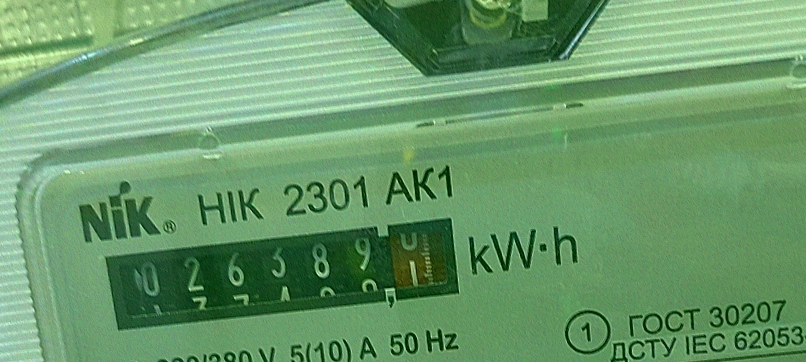0: (135, 257, 162, 299), (398, 229, 418, 252)
1: (405, 256, 420, 288)
2: (179, 253, 206, 293)
3: (266, 244, 286, 280)
6: (223, 248, 245, 288)
8: (308, 240, 332, 280)
9: (351, 235, 372, 271)
screen: (88, 204, 475, 343)
